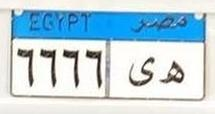6: (83, 47, 106, 92), (37, 46, 59, 90), (60, 45, 80, 92), (16, 44, 34, 89)
haa: (160, 55, 185, 89)
yaa: (124, 54, 157, 90)
